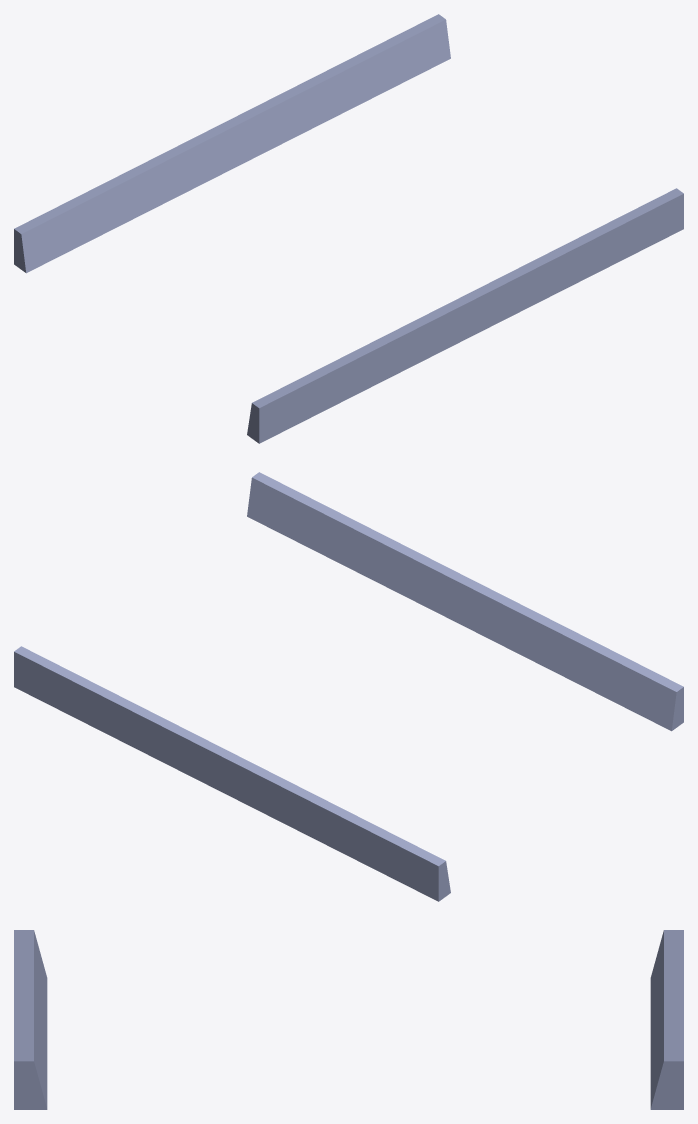
The model's file is road-slant-barrier.glb.
The picture shows the model from 3 angles, top to bottom: view 1: azimuth 30°, elevation 25°; view 2: azimuth 150°, elevation 25°; view 3: azimuth 270°, elevation 25°; orthographic projection. The views are drawn at different scales.
Visible parts, largest first — view 1: road-slant-barrier; view 2: road-slant-barrier; view 3: road-slant-barrier.
Boxes of the visible parts, left/top/right/bottom form: road-slant-barrier: left=14, top=14, right=683, bottom=443; road-slant-barrier: left=14, top=472, right=683, bottom=901; road-slant-barrier: left=14, top=930, right=683, bottom=1109.
Bounding box in the file's own units: 1 × 0.33 × 1.
Materials: 1 (1 with a texture image).
